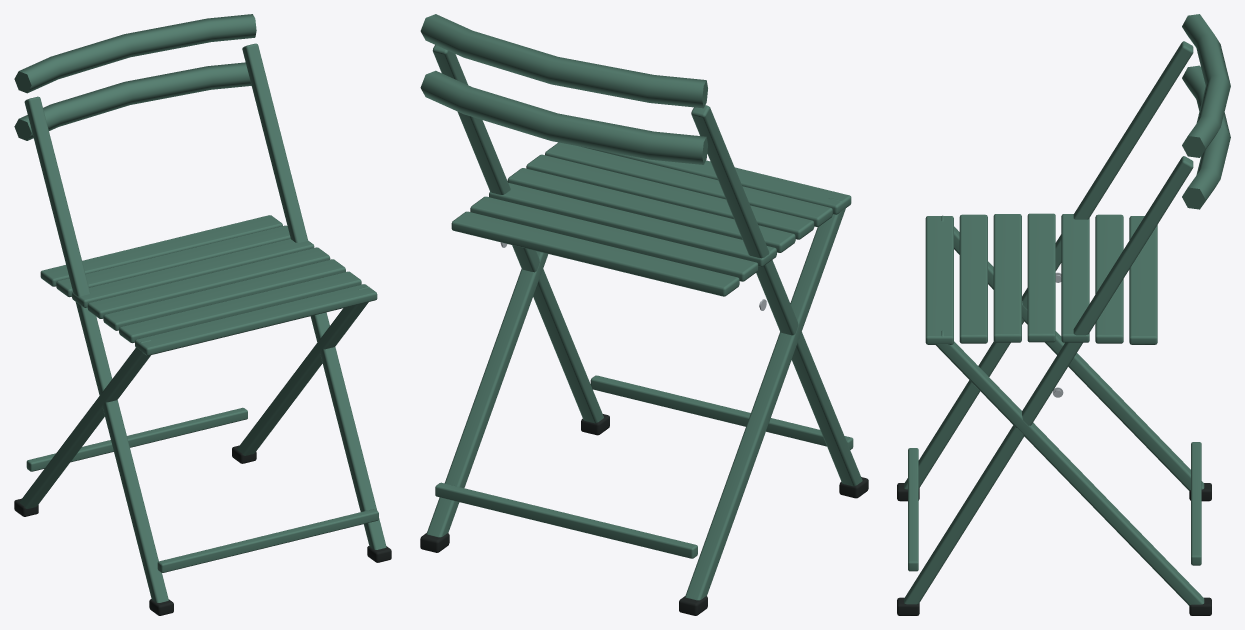
Rendered from outdoor-steel-bistro-chair.glb.
The picture shows the model from 3 angles, left to right: view 1: azimuth 30°, elevation 25°; view 2: azimuth 150°, elevation 25°; view 3: azimuth 270°, elevation 25°; orthographic projection. The views are drawn at different scales.
Visible parts, largest first — view 1: outdoor-steel-bistro-chair authored assembly; view 2: outdoor-steel-bistro-chair authored assembly; view 3: outdoor-steel-bistro-chair authored assembly.
Part boxes in pixels (left/top/right/bottom): outdoor-steel-bistro-chair authored assembly: left=14, top=14, right=391, bottom=615; outdoor-steel-bistro-chair authored assembly: left=420, top=14, right=868, bottom=615; outdoor-steel-bistro-chair authored assembly: left=897, top=14, right=1230, bottom=615.
Bounding box in the file's own units: 0.47 × 0.84 × 0.53.
